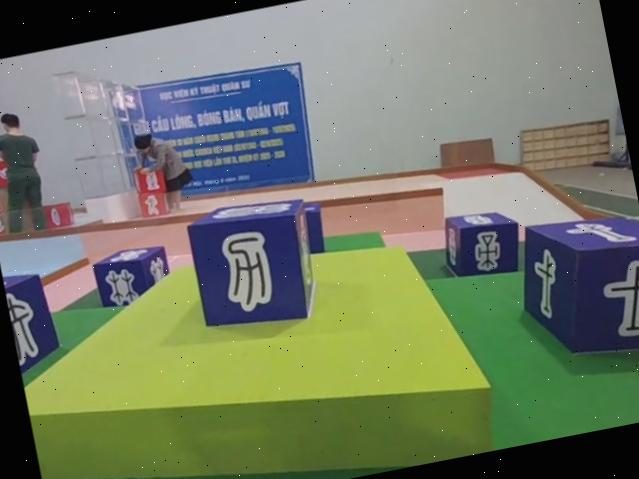R2 Fake Blue: (184, 192, 331, 341), (1, 267, 63, 386)
R2 Real Blue: (507, 204, 639, 376), (439, 203, 531, 286), (89, 244, 174, 313)
